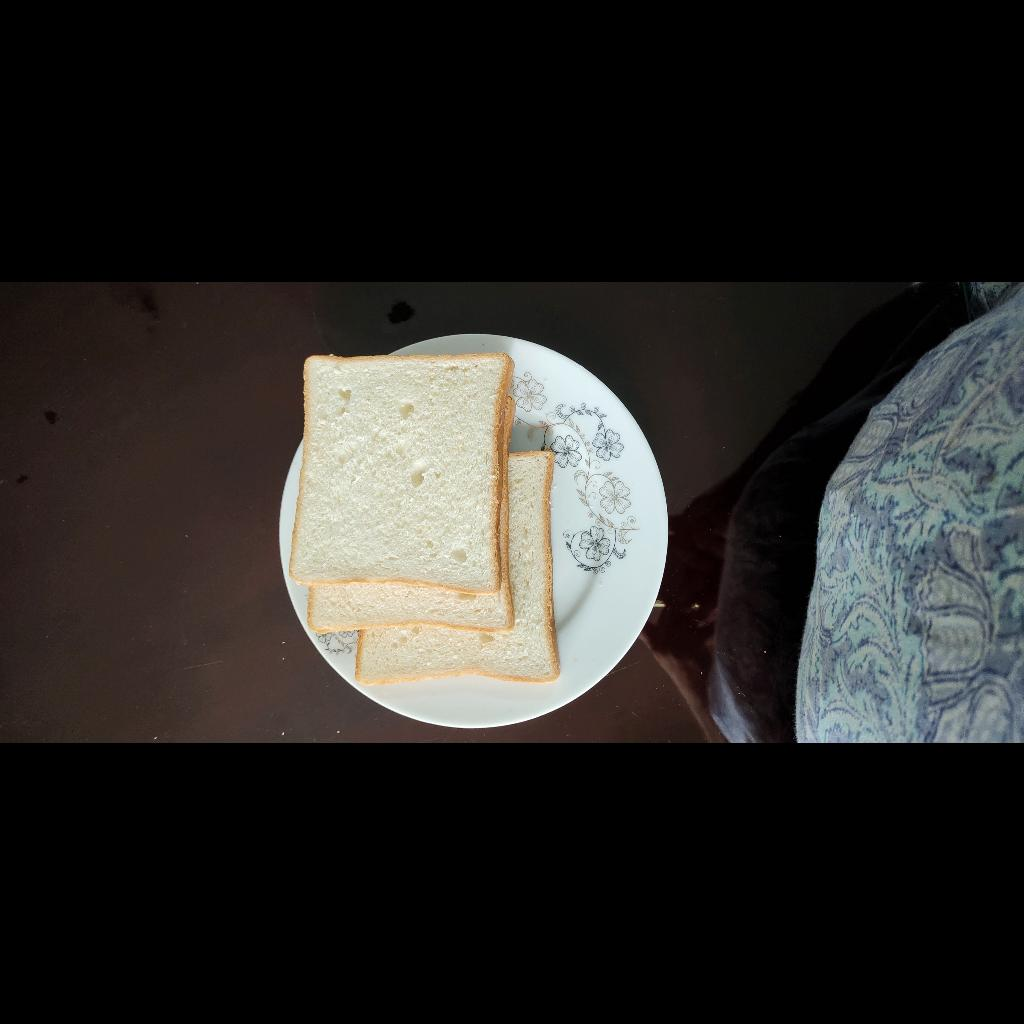bread: (54, 570, 390, 840)
